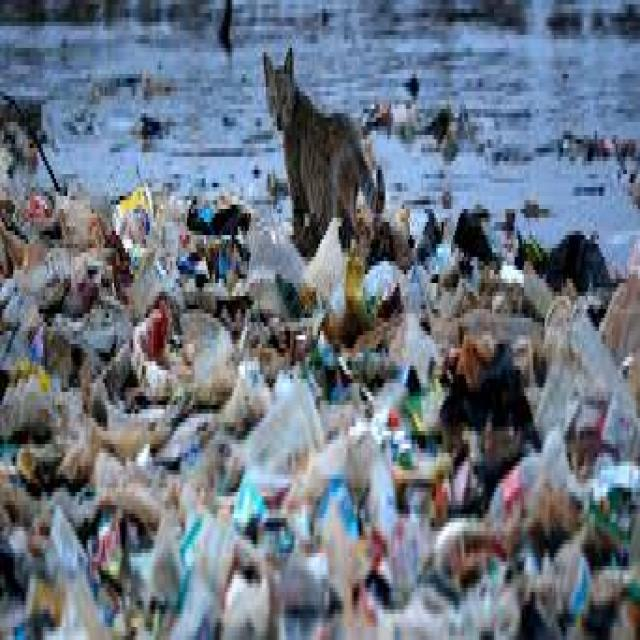heap: (100, 327, 513, 640)
